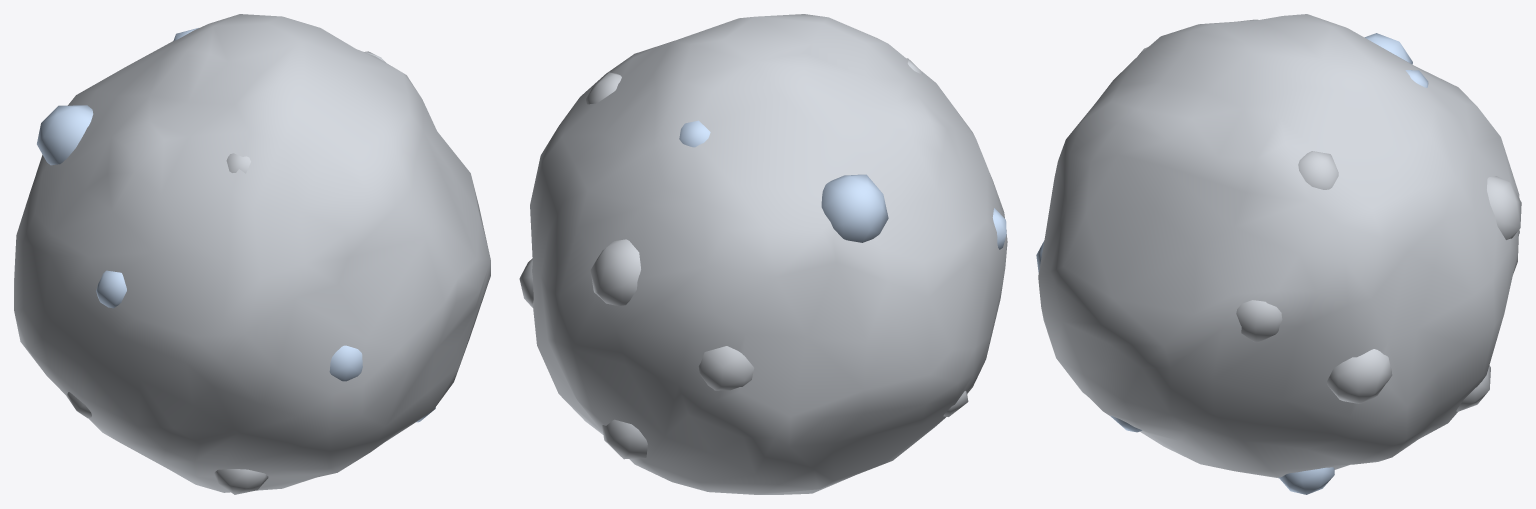
The model's file is snowball.glb.
3 views of the same model, side by side, from view 1: azimuth 30°, elevation 25°; view 2: azimuth 150°, elevation 25°; view 3: azimuth 270°, elevation 25° (orthographic). The views are drawn at different scales.
Parts seen in each view (by area): view 1: snowball; view 2: snowball; view 3: snowball.
Part boxes in pixels (x1,y1,x2,y2): snowball: [14, 14, 490, 494]; snowball: [519, 14, 1007, 494]; snowball: [1036, 14, 1521, 494].
Size of the model in its own units: 2.01 by 2 by 2.01.
